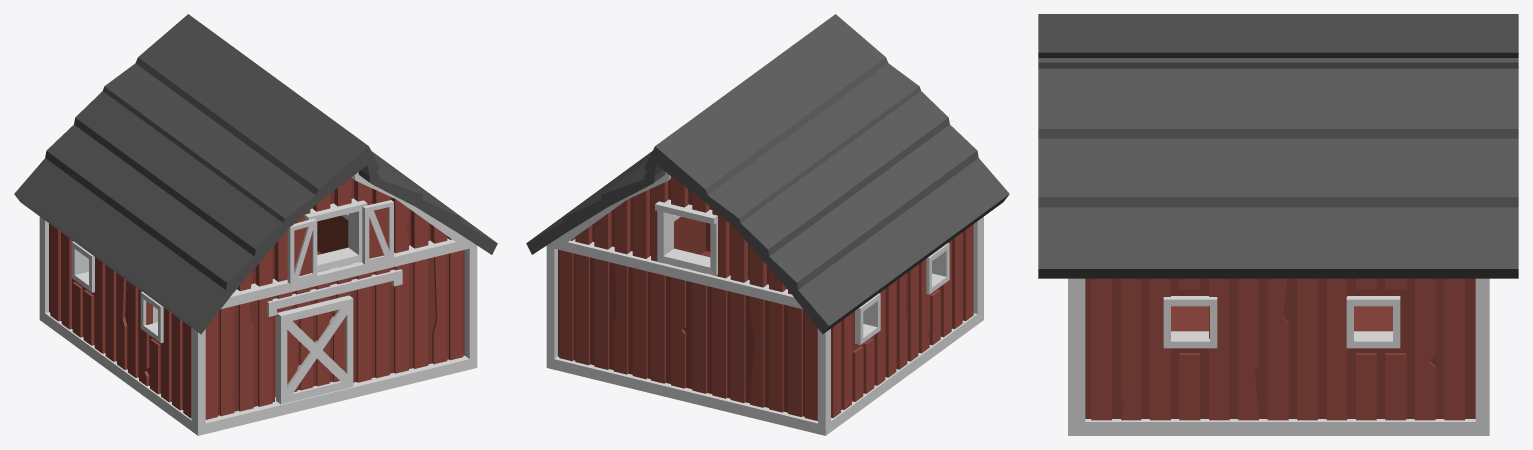
The model's file is warehouse.glb.
3 views of the same model, side by side, from view 1: azimuth 30°, elevation 25°; view 2: azimuth 150°, elevation 25°; view 3: azimuth 270°, elevation 25° (orthographic). The views are drawn at different scales.
Visible parts, largest first — view 1: Small_Barn, Small_Barn_Door, SmallBarn_Window, SmallBarn_Window2; view 2: Small_Barn; view 3: Small_Barn.
Part boxes in pixels (x1,y1,x2,y2): Small_Barn: [14, 14, 497, 435]; Small_Barn_Door: [276, 295, 353, 404]; SmallBarn_Window: [362, 200, 393, 264]; SmallBarn_Window2: [287, 218, 317, 283]; Small_Barn: [526, 14, 1009, 435]; Small_Barn: [1038, 14, 1518, 435].
Size of the model in its own units: 6.08 by 4.96 by 6.27.
